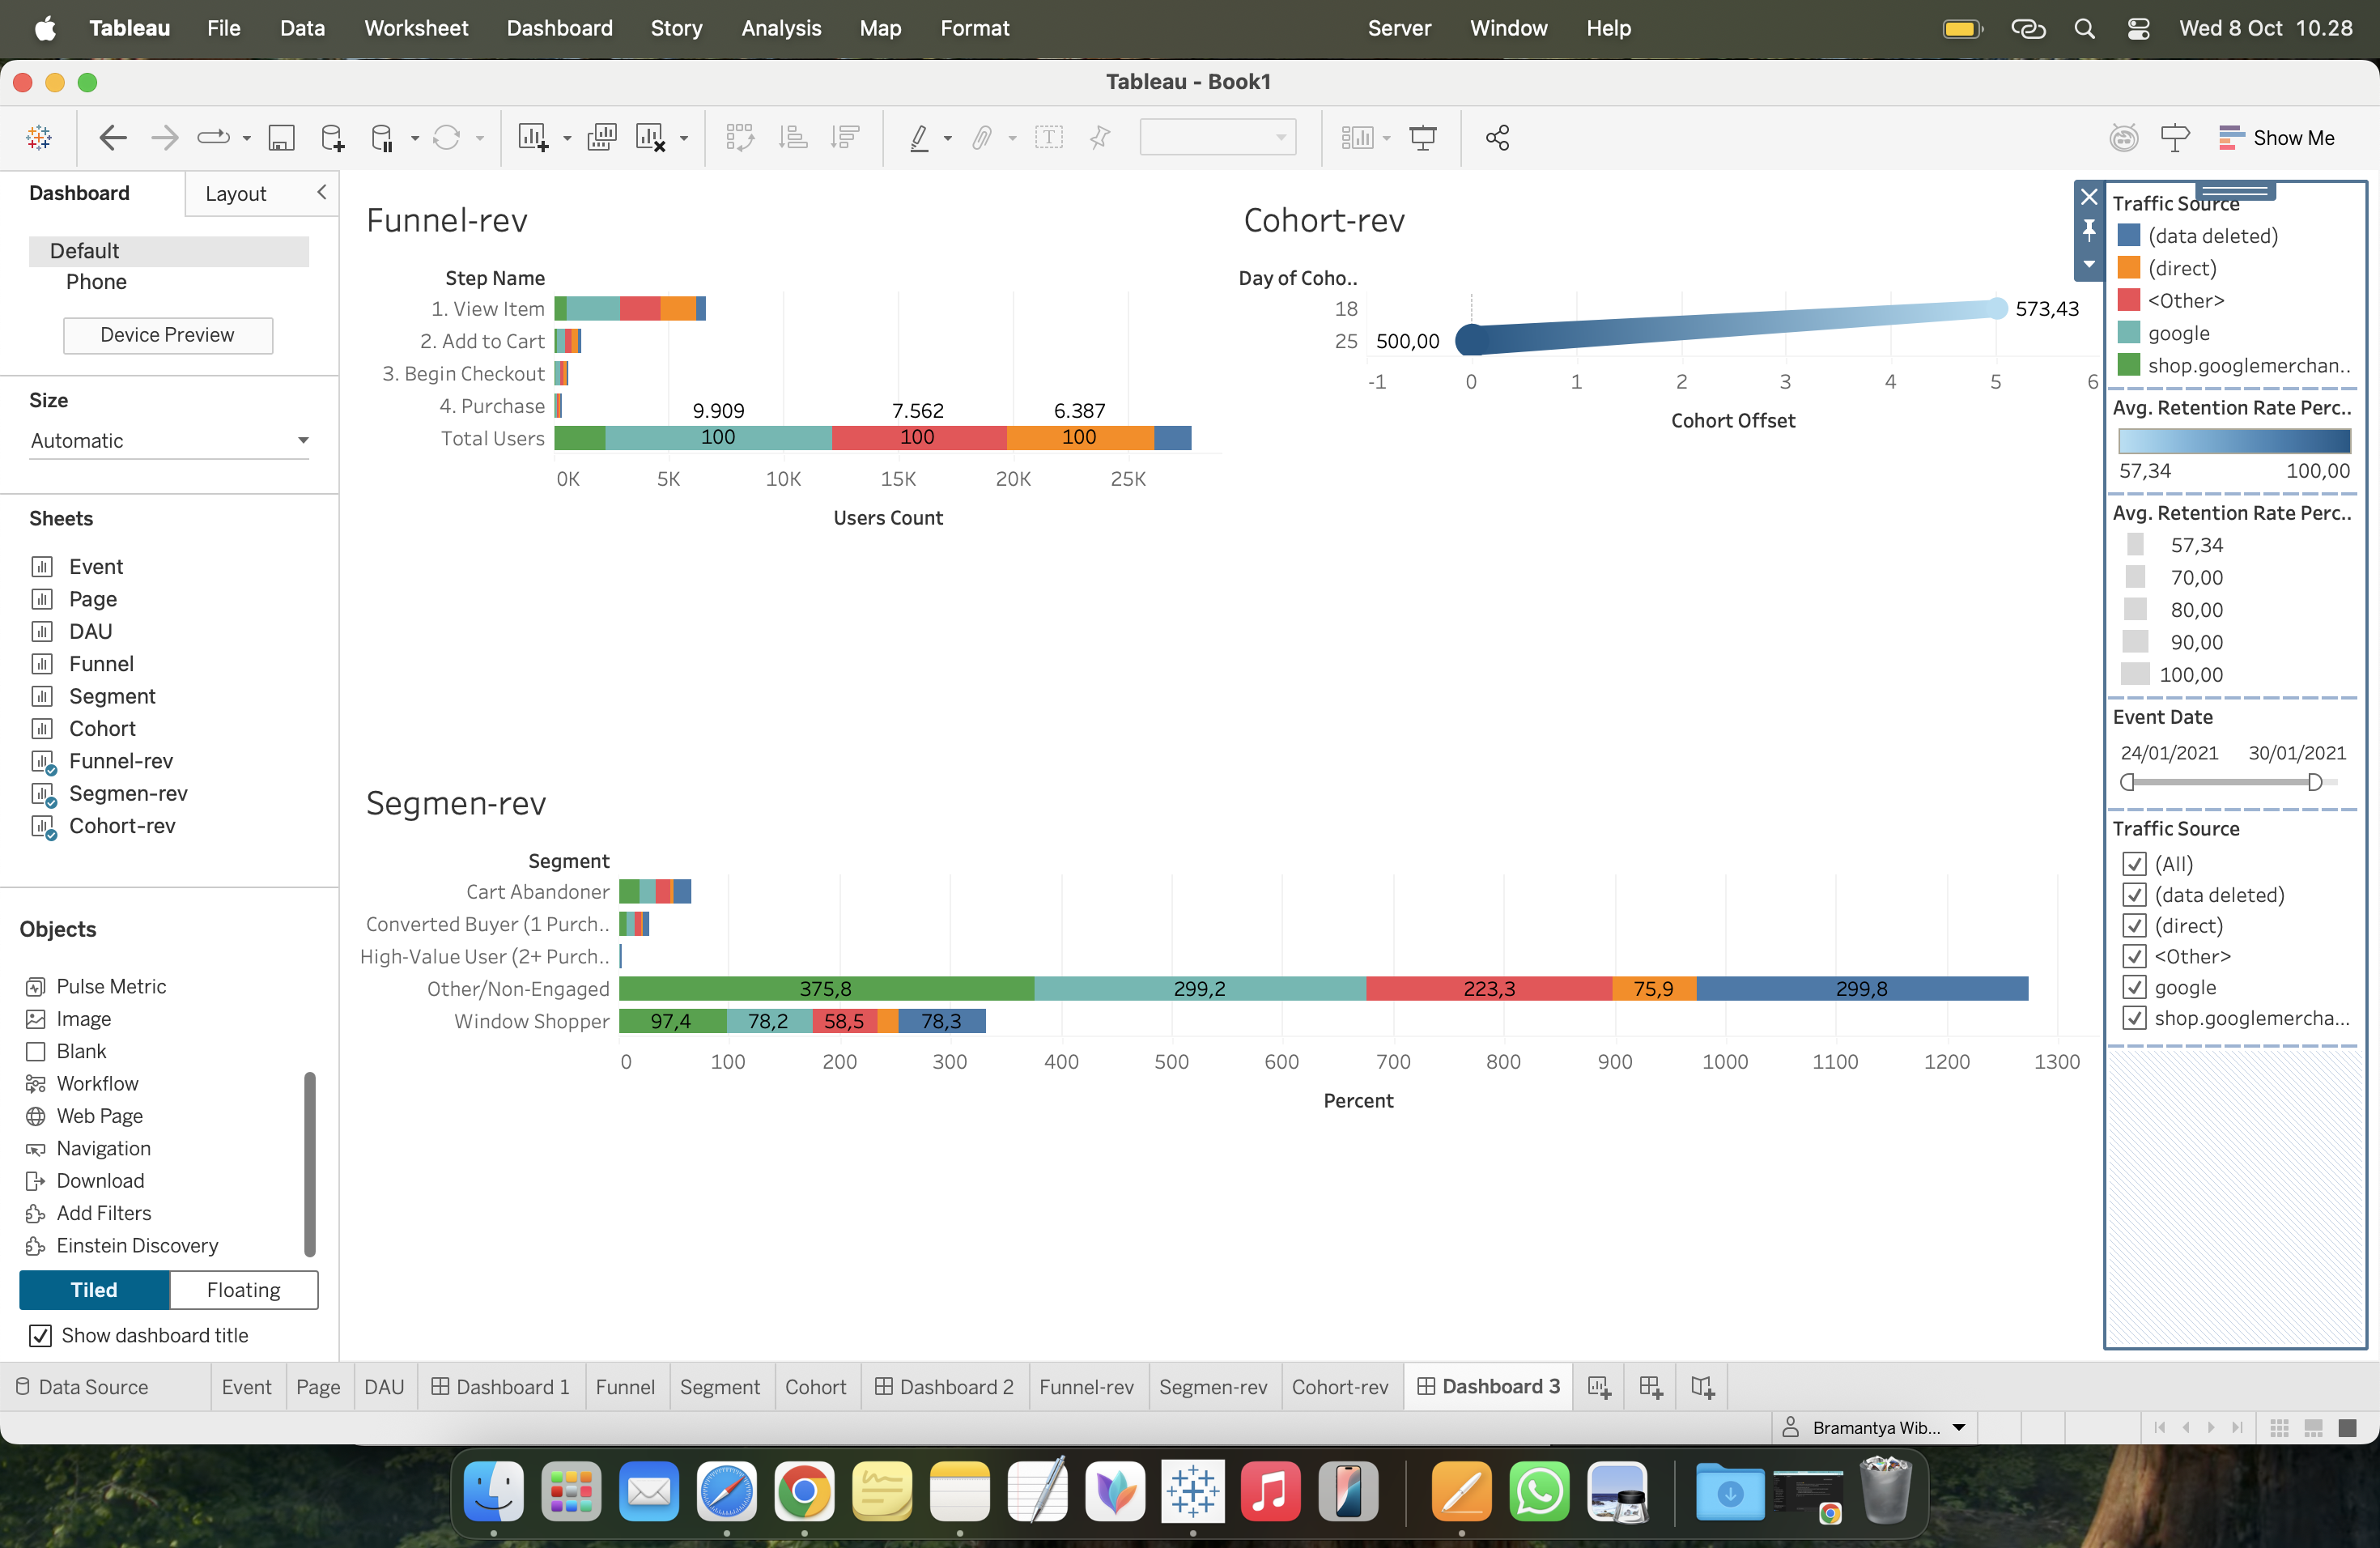

This screenshot's page, from the dashboard's own definition file:
{"tool":"tableau","page":{"name":"Dashboard 3","canvas":[1000,1000],"units":"permille","ordinal":2},"visuals":[{"type":"worksheet","title":"Funnel-rev","mark":"Automatic","rows":["step_name"],"cols":["users_count"],"box":[6.4,10.9,430.1,489.1]},{"type":"worksheet","title":"Cohort-rev","mark":"Automatic","rows":["cohort_week"],"cols":["cohort_offset"],"box":[436.5,10.9,430.1,489.1]},{"type":"legend","title":"Funnel-rev","param":"[federated.124bmg214i1vba10ihwek0wdoo8z].[none:traffic_source:nk]","box":[866.6,10.9,127.1,171.4]},{"type":"legend","title":"Cohort-rev","param":"[federated.124bmg214i1vba10ihwek0wdoo8z].[avg:retention_rate_percent:qk]","box":[866.6,182.3,127.1,88.4]},{"type":"legend","title":"Cohort-rev","param":"[federated.124bmg214i1vba10ihwek0wdoo8z].[avg:retention_rate_percent:qk]","box":[866.6,270.7,127.1,171.4]},{"type":"filter","title":"Segmen-rev","param":"[federated.124bmg214i1vba10ihwek0wdoo8z].[none:event_date:qk]","box":[866.6,442.2,127.1,93.9]},{"type":"worksheet","title":"Segmen-rev","mark":"Automatic","rows":["segment"],"cols":["percent"],"box":[6.4,500,860.2,489.1]},{"type":"filter","title":"Segmen-rev","param":"[federated.124bmg214i1vba10ihwek0wdoo8z].[none:traffic_source:nk]","box":[866.6,536,127.1,198.6]}]}

Visuals, with their boxes on the dashboard's canvas, which has no fixed pixel size, in thousandths of its width and height (x1, y1, x2, y2). These are canvas units, not pixel positions in the 2380x1548 screenshot, which may show the page scaled, cropped or inside an application window:
"Funnel-rev" worksheet: bbox(6, 11, 436, 500)
"Cohort-rev" worksheet: bbox(436, 11, 867, 500)
"Funnel-rev" legend: bbox(867, 11, 994, 182)
"Cohort-rev" legend: bbox(867, 182, 994, 271)
"Cohort-rev" legend: bbox(867, 271, 994, 442)
"Segmen-rev" filter: bbox(867, 442, 994, 536)
"Segmen-rev" worksheet: bbox(6, 500, 867, 989)
"Segmen-rev" filter: bbox(867, 536, 994, 735)
